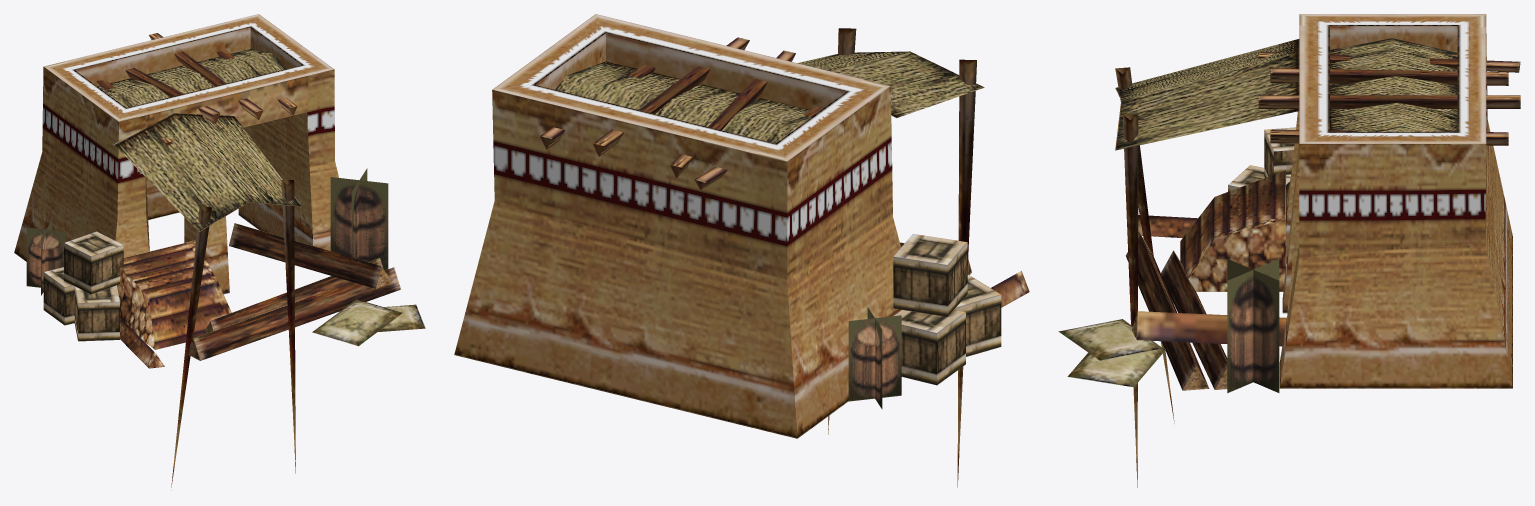
File: idle.glb
3 renders of one model, left to right at view 1: azimuth 30°, elevation 25°; view 2: azimuth 150°, elevation 25°; view 3: azimuth 270°, elevation 25°, orthographic. The views are drawn at different scales.
Parts seen in each view (by area): view 1: MeshRoot; view 2: MeshRoot; view 3: MeshRoot.
Part boxes in pixels (x1,y1,x2,y2): MeshRoot: (14,14,425,487); MeshRoot: (454,14,1029,487); MeshRoot: (1058,14,1520,487).
Bounding box in the file's own units: 4.48 × 4.75 × 4.83.
6 materials, 6 textured.
